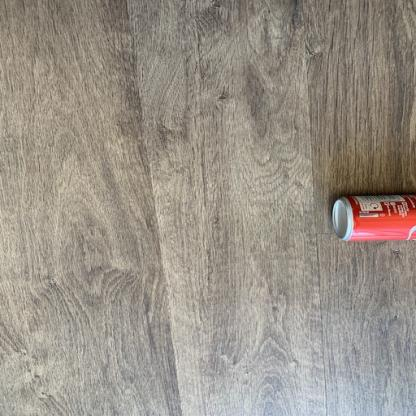trash: (312, 192, 416, 242)
